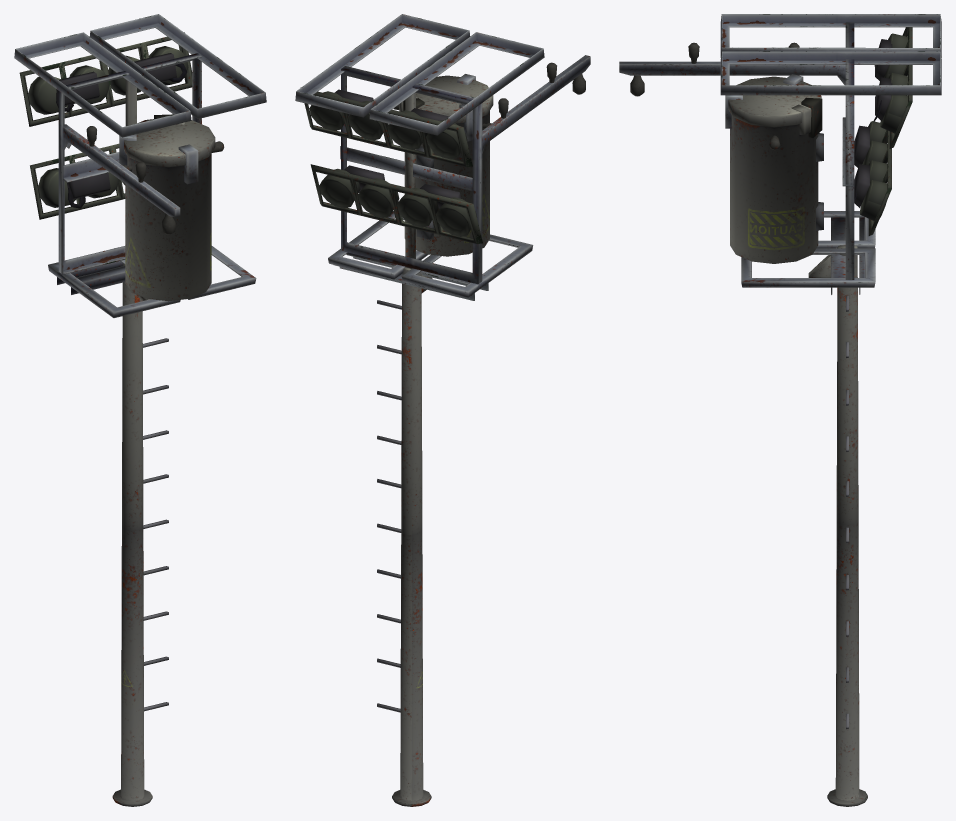
The model's file is reflector.obj.
3 views of the same model, side by side, from view 1: azimuth 30°, elevation 25°; view 2: azimuth 150°, elevation 25°; view 3: azimuth 270°, elevation 25° (orthographic). The views are drawn at different scales.
Visible parts, largest first — view 1: bars_LP_Material.002; view 2: bars_LP_Material.002; view 3: bars_LP_Material.002.
Part boxes in pixels (x1=…): bars_LP_Material.002: x1=14, y1=14, x2=266, y2=806; bars_LP_Material.002: x1=295, y1=14, x2=590, y2=806; bars_LP_Material.002: x1=619, y1=14, x2=941, y2=806.
Size of the model in its own units: 1.88 by 7.99 by 3.12.
